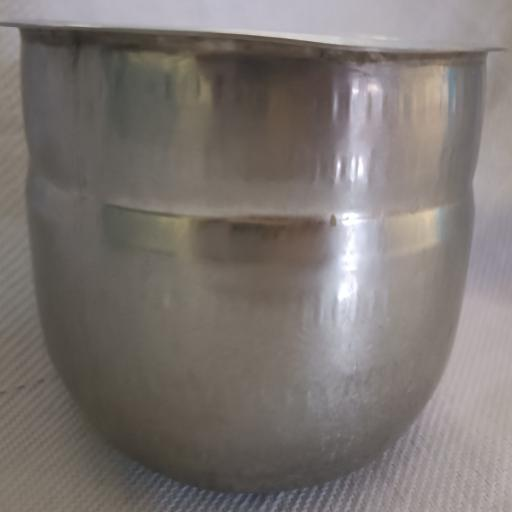vessel: (3, 22, 498, 491)
